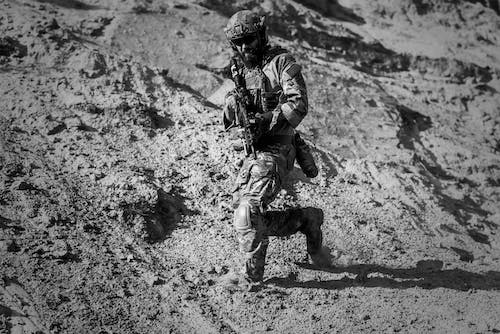gun: (227, 57, 259, 161)
